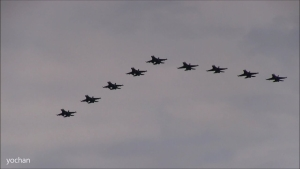flight: (144, 54, 168, 66), (54, 107, 78, 118), (125, 66, 148, 77), (177, 60, 198, 72), (237, 68, 259, 79), (80, 94, 102, 105), (205, 64, 229, 74), (101, 80, 125, 90), (265, 73, 288, 83)
